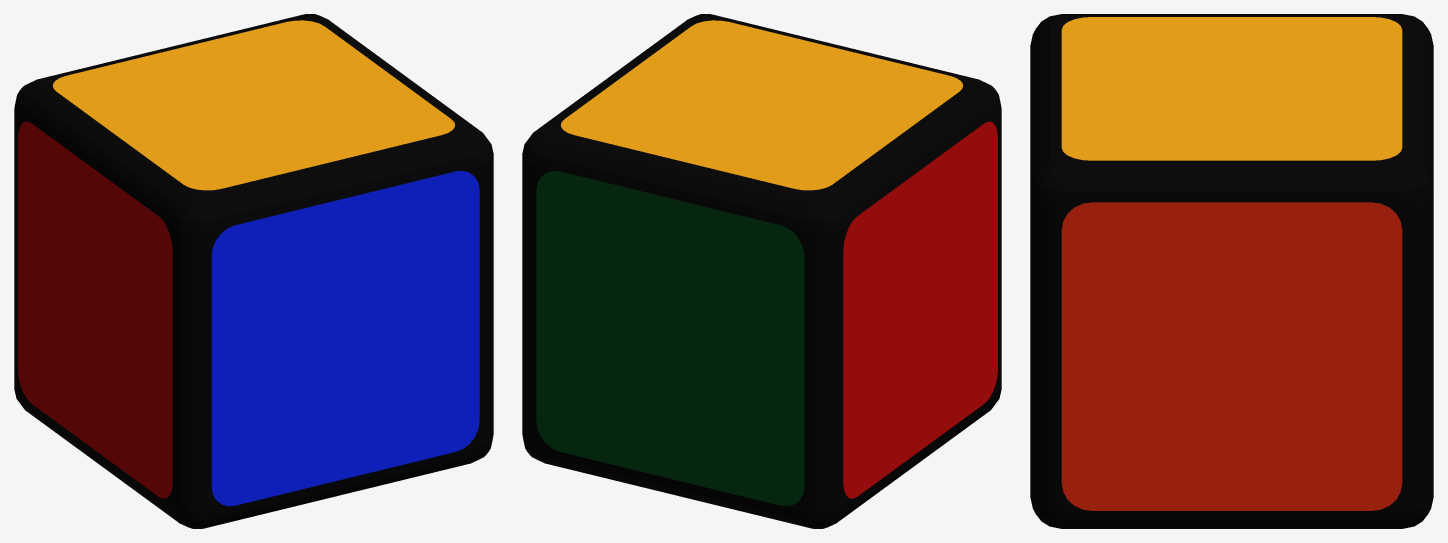
Rendered from rubiks-cube.obj.
3 renders of one model, left to right at view 1: azimuth 30°, elevation 25°; view 2: azimuth 150°, elevation 25°; view 3: azimuth 270°, elevation 25°, orthographic. The views are drawn at different scales.
Parts seen in each view (by area): view 1: Cube; view 2: Cube; view 3: Cube.
Part boxes in pixels (x1,y1,x2,y2): Cube: [14, 14, 493, 528]; Cube: [522, 14, 1001, 528]; Cube: [1030, 14, 1433, 528].
Bounding box in the file's own units: 2 × 2 × 2.
